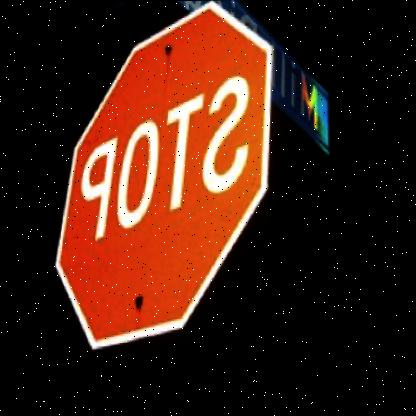stop: (45, 0, 283, 348)
